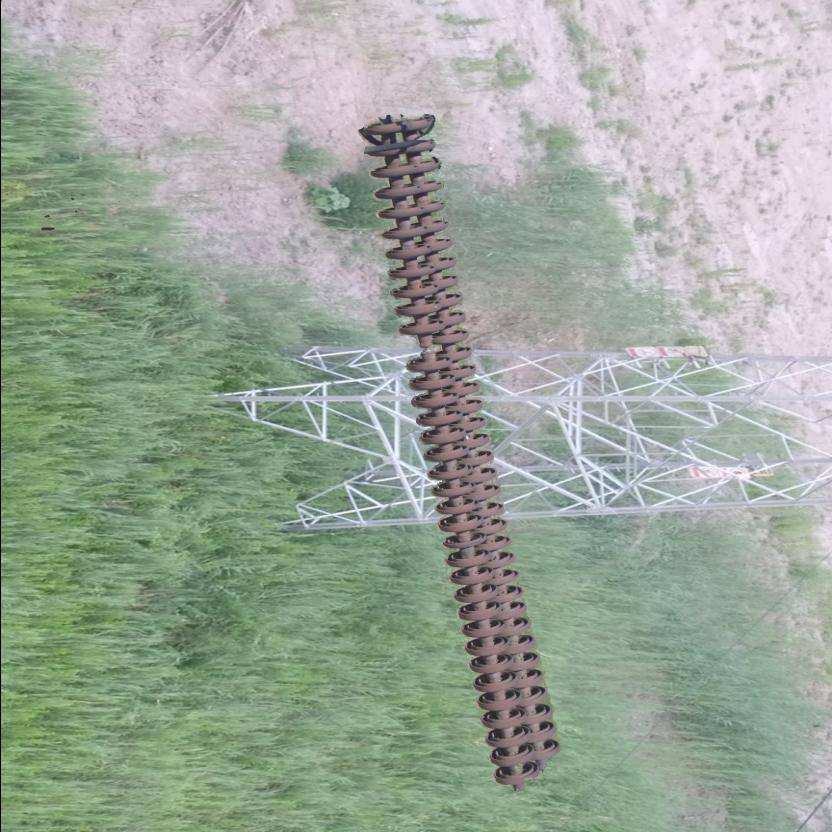defect: (397, 318, 454, 380)
